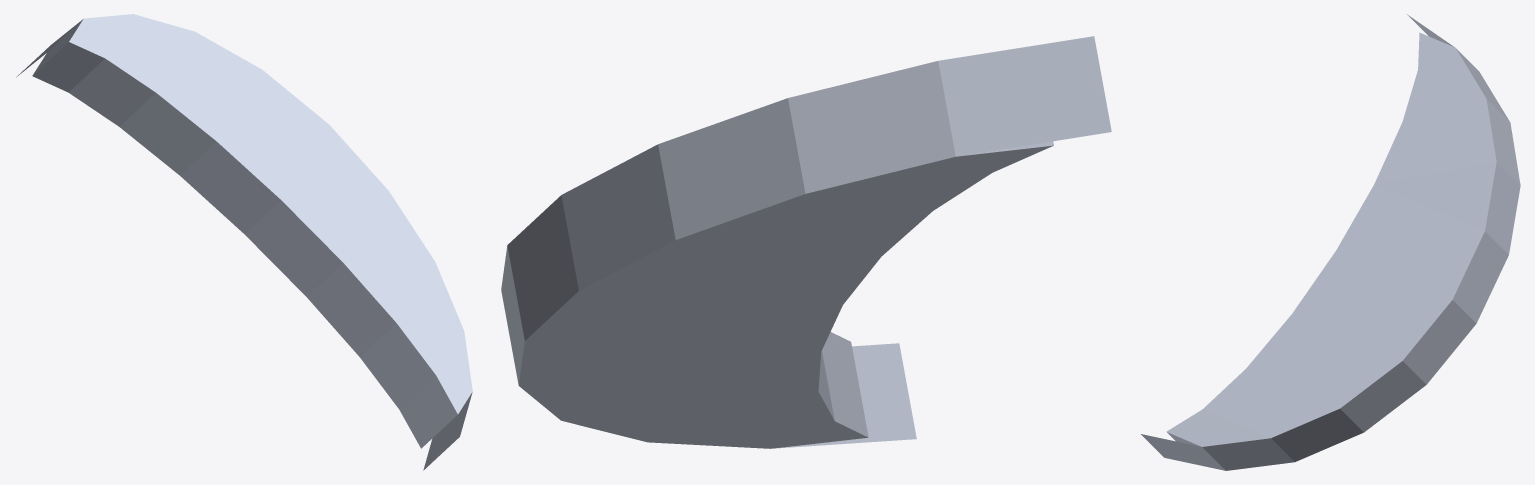
The model's file is icon_moon.glb.
3 renders of one model, left to right at view 1: azimuth 30°, elevation 25°; view 2: azimuth 150°, elevation 25°; view 3: azimuth 270°, elevation 25°, orthographic. The views are drawn at different scales.
Visible parts, largest first — view 1: icon_moon; view 2: icon_moon; view 3: icon_moon.
Part boxes in pixels (x1,y1,x2,y2): icon_moon: (16,14,472,470); icon_moon: (501,36,1111,448); icon_moon: (1141,14,1520,470).
Bounding box in the file's own units: 0.7505 × 0.7434 × 0.7505.
